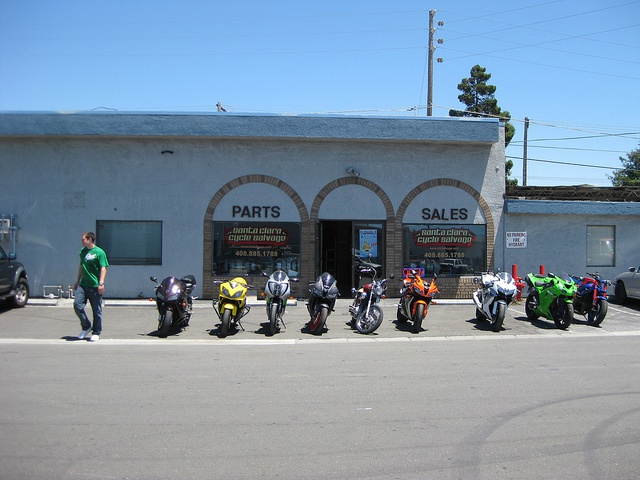non-vehicle: (348, 253, 394, 335), (471, 267, 521, 330), (524, 272, 577, 328), (149, 275, 196, 337), (396, 268, 439, 331), (212, 276, 254, 336), (260, 270, 299, 334), (567, 271, 612, 326), (305, 271, 340, 334)
